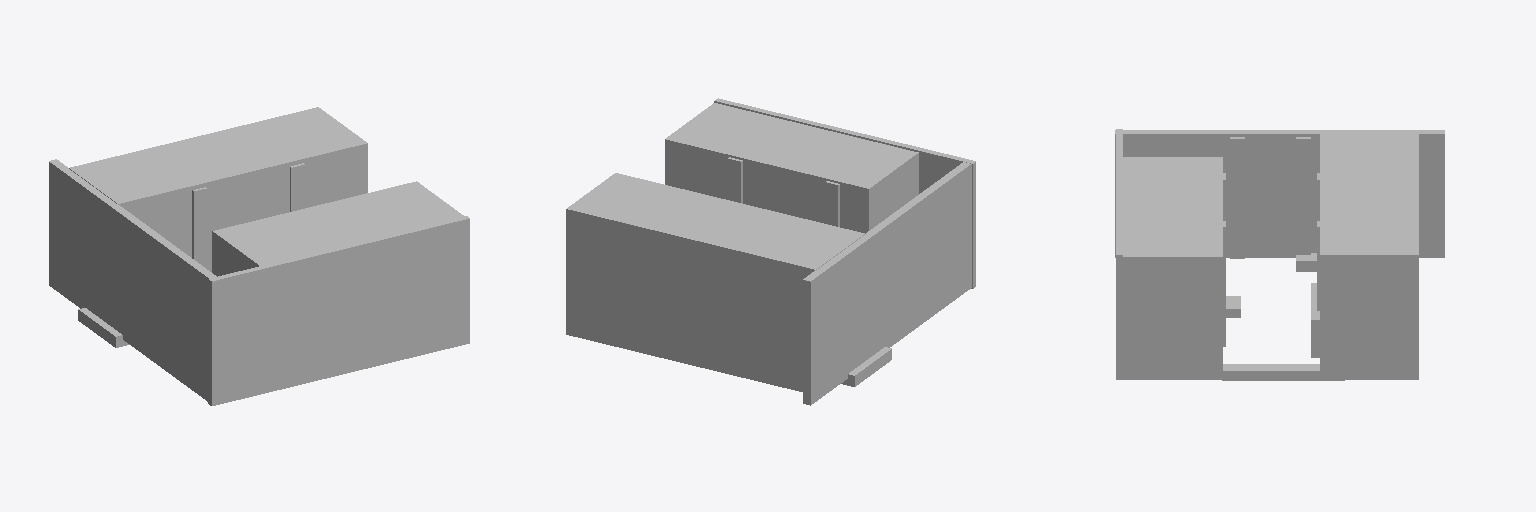
File: corridor.obj
3 views of the same model, side by side, from view 1: azimuth 30°, elevation 25°; view 2: azimuth 150°, elevation 25°; view 3: azimuth 270°, elevation 25° (orthographic).
Parts seen in each view (by area): view 1: pCube2 group1, group1 pCube3, group1 pCube4, group1 pCube5, group1 pCube15, group1 pCube11, group1 pCube18; view 2: group1 pCube3, group1 pCube4, group1 pCube5, pCube2 group1, group1 pCube11, group1 pCube16, group1 pCube17; view 3: group1 pCube3, group1 pCube5, group1 pCube4, group1 pCube6, group1 pCube14, pCube2 group1, pCube13, group1 pCube9.
Part boxes in pixels (x1,y1,x2,y2): pCube2 group1: (208,216,469,405); group1 pCube3: (69,107,367,271); group1 pCube4: (49,159,220,405); group1 pCube5: (212,181,463,276); group1 pCube15: (192,187,206,268); group1 pCube11: (78,308,129,347); group1 pCube18: (290,163,304,211); group1 pCube3: (566,173,864,391); group1 pCube4: (803,162,971,405); group1 pCube5: (665,103,918,233); pCube2 group1: (714,98,975,288); group1 pCube11: (841,347,891,386); group1 pCube16: (825,181,839,226); group1 pCube17: (728,157,742,203); group1 pCube3: (1320,133,1418,379); group1 pCube5: (1123,157,1222,379); group1 pCube4: (1115,130,1444,257); group1 pCube6: (1230,137,1244,258); group1 pCube14: (1296,137,1310,254); pCube2 group1: (1116,129,1122,379); pCube13: (1222,364,1344,380); group1 pCube9: (1311,283,1319,357).
Size of the model in its own units: 12.41 by 5.9 by 13.38.